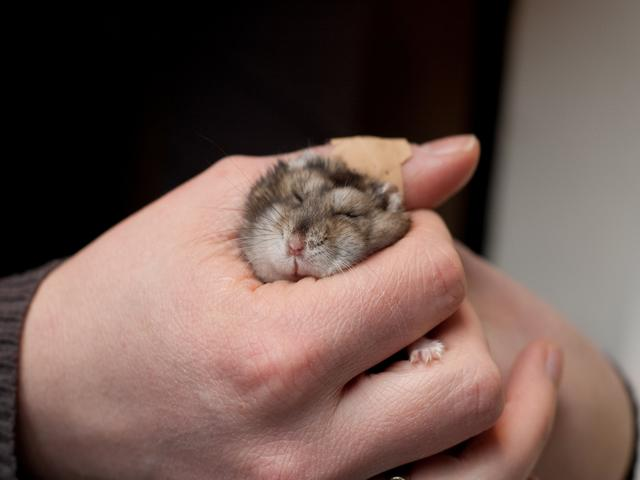mouse: (233, 126, 448, 289)
